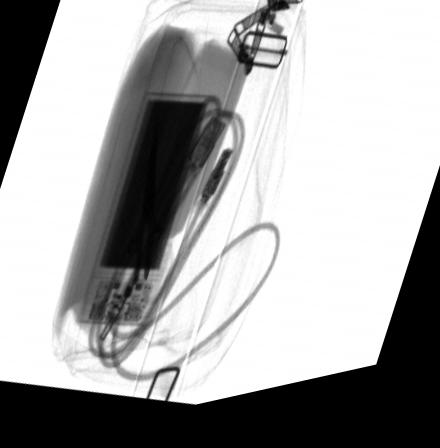Powerbank: (75, 98, 217, 334)
Scissors: (98, 95, 179, 338)
